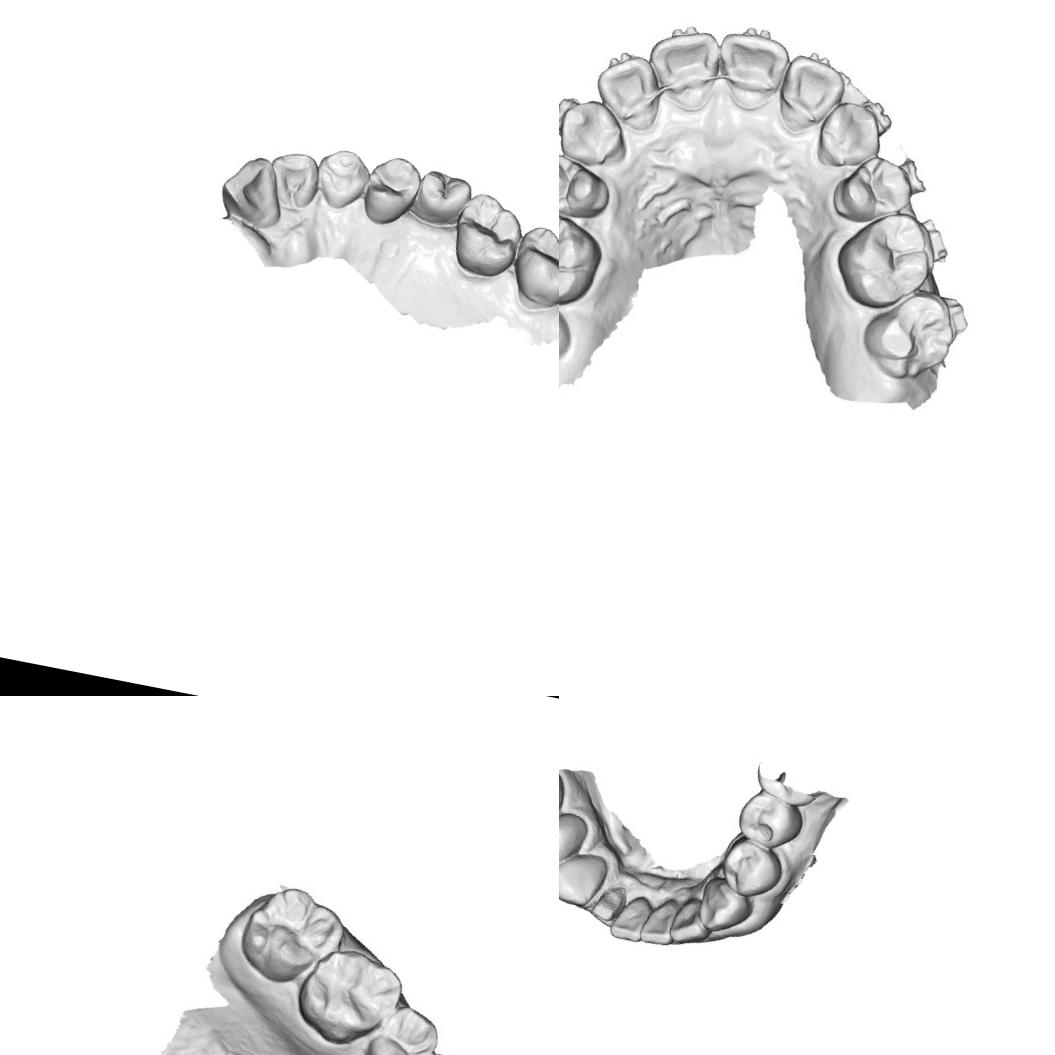canine: (811, 92, 888, 176), (559, 91, 635, 172), (309, 144, 373, 214), (695, 873, 757, 936), (559, 846, 609, 911)
crown: (589, 883, 626, 923)
incisor: (647, 24, 728, 113), (716, 25, 791, 113), (214, 150, 293, 233), (584, 50, 664, 130), (780, 58, 841, 130), (263, 146, 323, 215), (666, 894, 717, 950), (637, 893, 679, 947), (608, 891, 647, 942)
molar: (824, 202, 944, 322), (294, 941, 406, 1050), (854, 285, 957, 390), (235, 880, 340, 983), (445, 188, 528, 282), (559, 205, 610, 310), (505, 220, 559, 315)
premolar: (830, 151, 917, 234), (358, 150, 426, 232), (734, 788, 808, 853), (716, 834, 786, 902), (559, 146, 618, 226), (408, 166, 476, 232), (362, 1000, 443, 1055), (559, 809, 577, 872)
